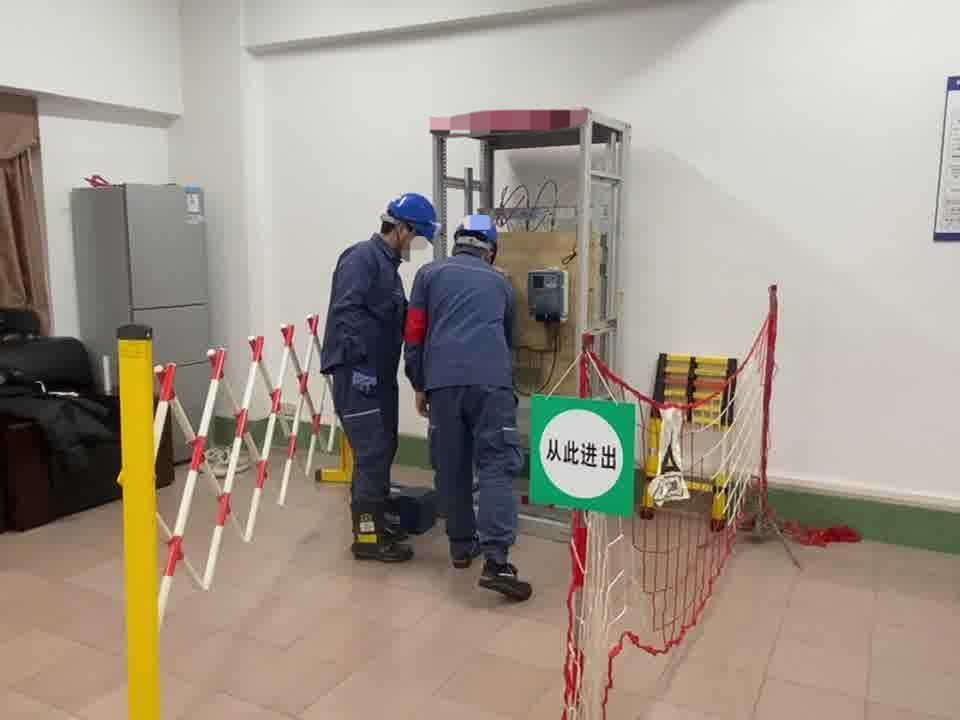halt: (384, 193, 441, 257), (455, 220, 503, 262)
inear: (394, 223, 416, 254)
